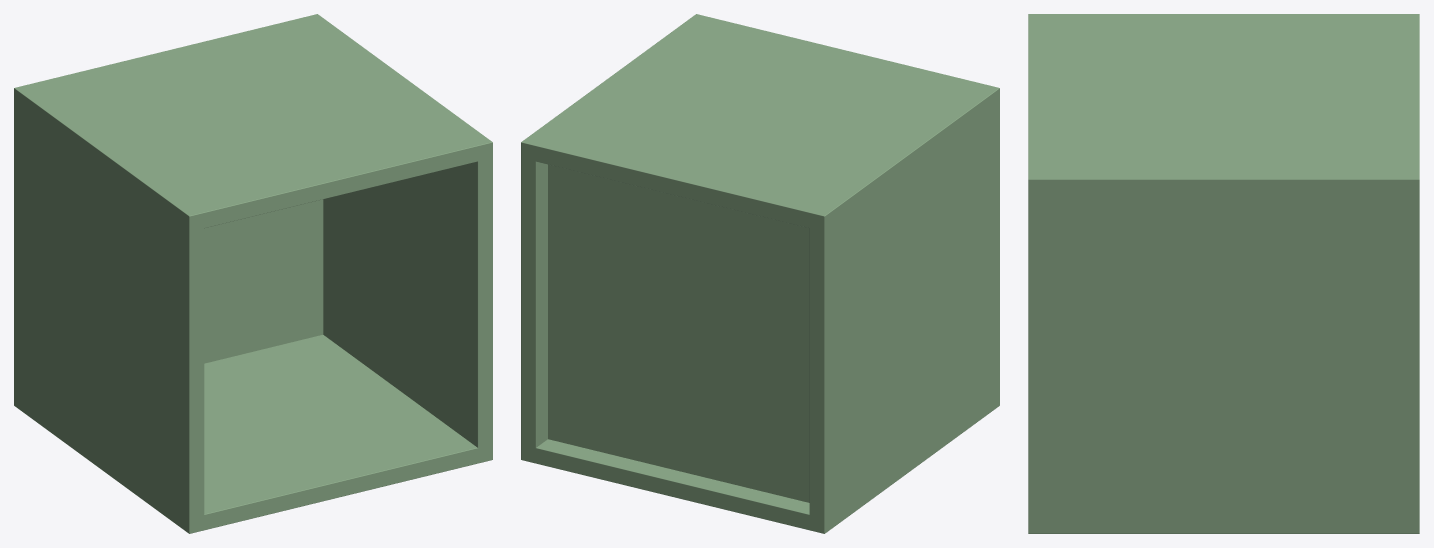
File: MOD-1X1-A-B-SA.glb
3 views of the same model, side by side, from view 1: azimuth 30°, elevation 25°; view 2: azimuth 150°, elevation 25°; view 3: azimuth 270°, elevation 25° (orthographic). The views are drawn at different scales.
Bounding box in the file's own units: 360 × 360 × 360.
